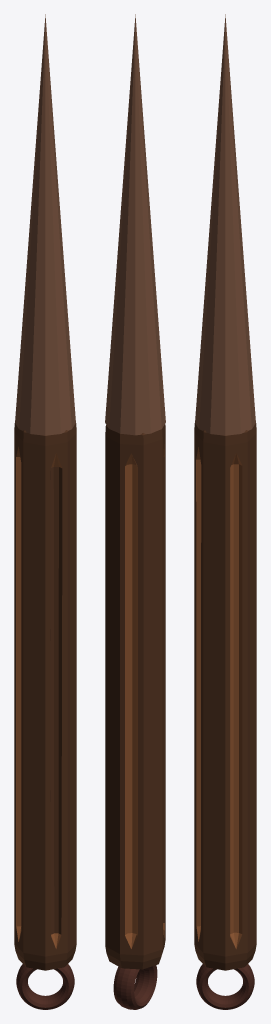
Rendered from Wand 521.glb.
The picture shows the model from 3 angles, left to right: view 1: azimuth 90°, elevation 25°; view 2: azimuth 150°, elevation 25°; view 3: azimuth 270°, elevation 25°; orthographic projection.
Visible parts, largest first — view 1: GeneratedWand; view 2: GeneratedWand; view 3: GeneratedWand.
Part boxes in pixels (box(x1,y1,x2,y2)): GeneratedWand: box(14, 14, 76, 1009); GeneratedWand: box(105, 14, 165, 1009); GeneratedWand: box(194, 14, 256, 1009).
Size of the model in its own units: 0.0289 by 0.5069 by 0.0289.
